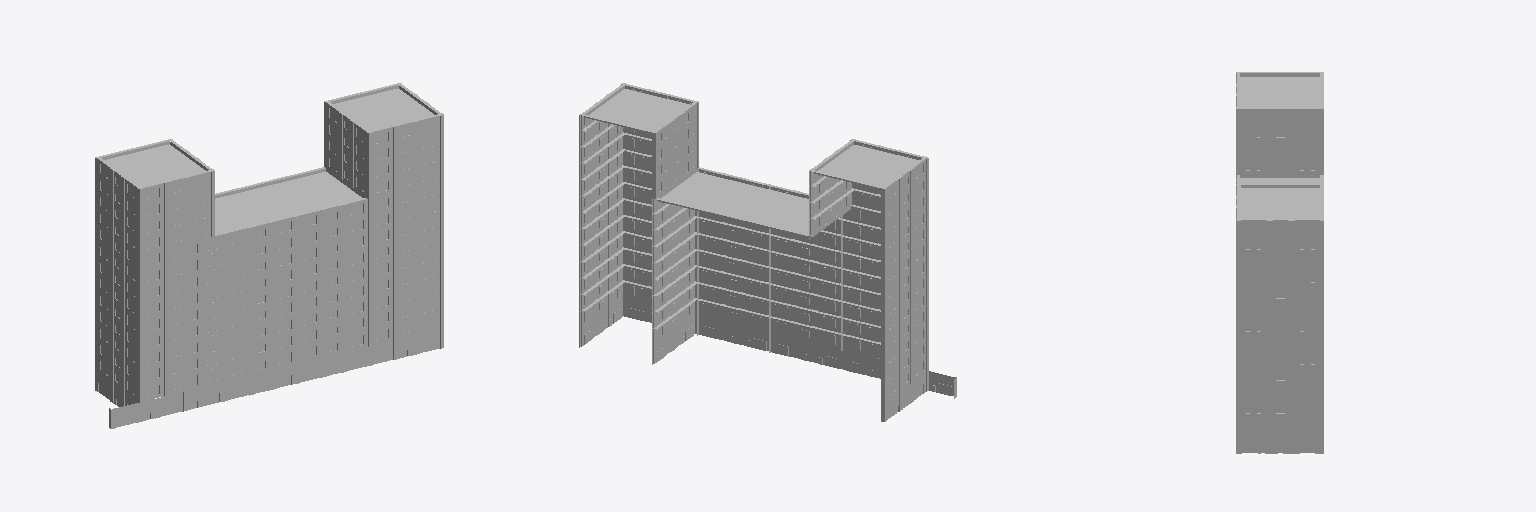
Rendered from UBuilding1.obj.
3 renders of one model, left to right at view 1: azimuth 30°, elevation 25°; view 2: azimuth 150°, elevation 25°; view 3: azimuth 270°, elevation 25°, orthographic.
Visible parts, largest first — view 1: UBuilding1; view 2: UBuilding1; view 3: UBuilding1.
Part boxes in pixels (bbox=[...]): UBuilding1: bbox=[95, 83, 443, 428]; UBuilding1: bbox=[579, 83, 956, 421]; UBuilding1: bbox=[1236, 72, 1323, 453].
Size of the model in its own units: 106 by 71 by 24.27.